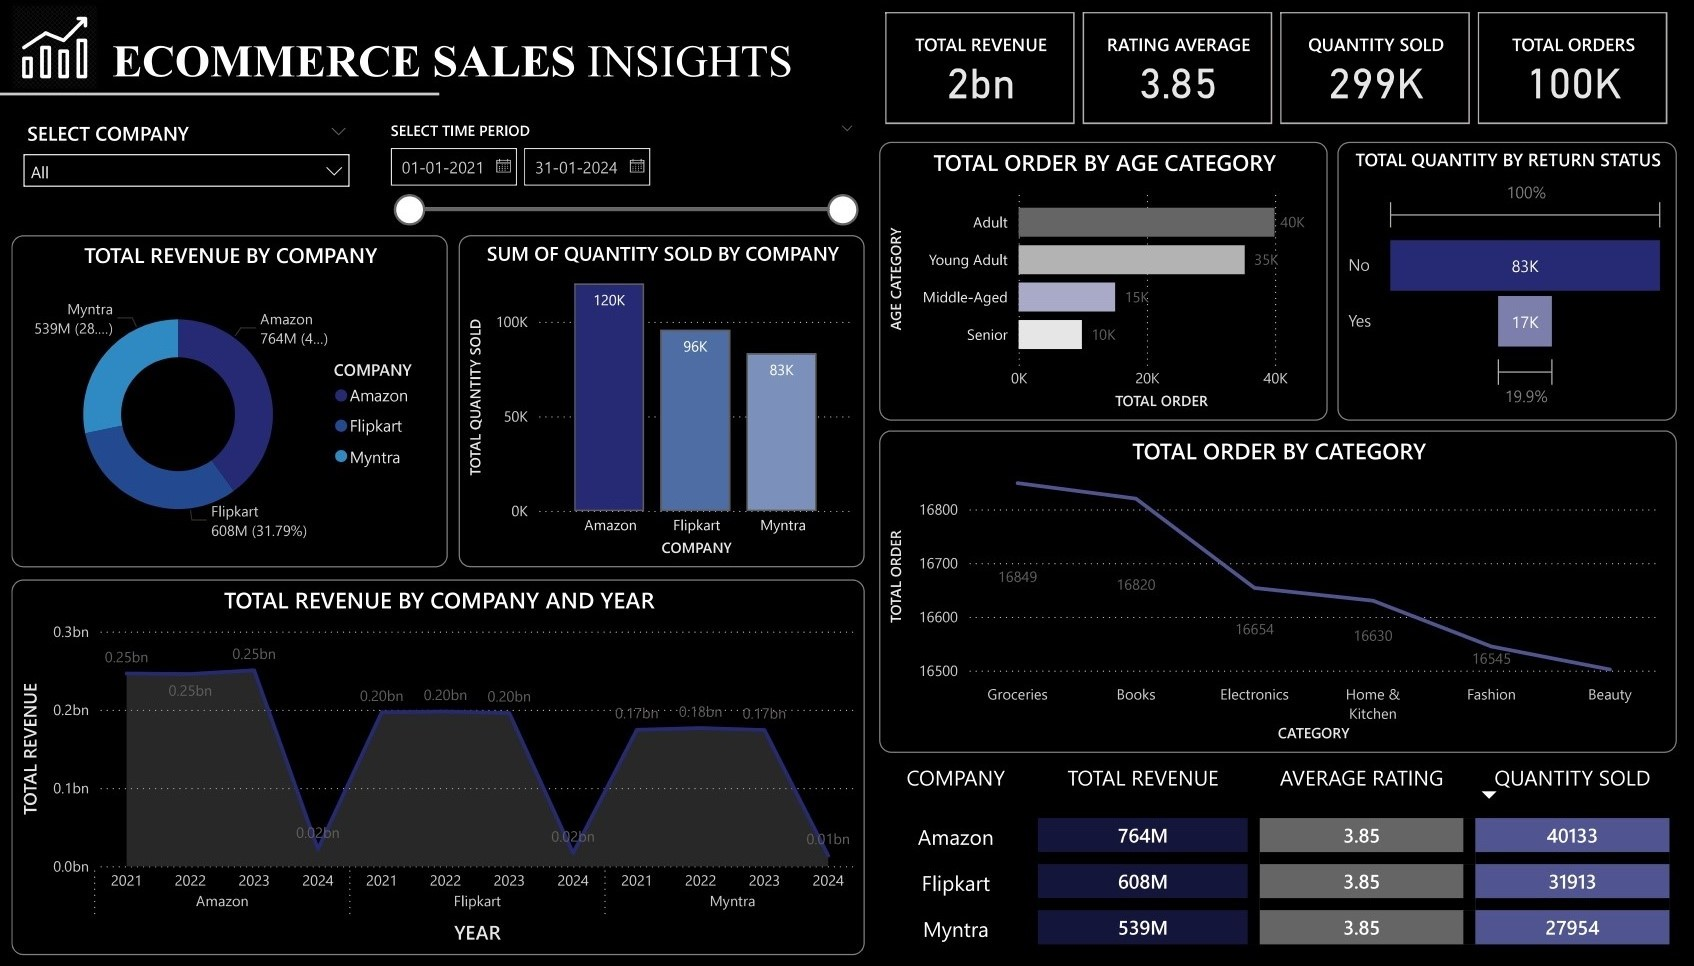

Layout of this report page (visuals, bound fields, positions):
{"tool":"powerbi","page":{"name":"Page 1","canvas":[1400,800],"ordinal":0},"visuals":[{"type":"donutChart","title":"TOTAL REVENUE BY COMPANY","fields":{"Y":["export (2).Total_Revenue1"],"Category":["export (2).Company"]},"box":[11.2,196.2,360,273.8],"z":0},{"type":"pivotTable","fields":{"Values":["export (2).Total_Revenue1","export (2).rating_avg","export (2).quantity_count"],"Rows":["export (2).Company"]},"box":[727.1,622.8,657.6,167.5],"z":1000},{"type":"lineChart","title":"TOTAL REVENUE BY COMPANY AND YEAR","fields":{"Category":["year.Company","year.Year"],"Y":["Sum(year.Total Revenue)"]},"box":[11.2,480,703.8,310],"z":2000},{"type":"clusteredBarChart","title":"TOTAL ORDER BY AGE CATEGORY","fields":{"Y":["export (2).order_c"],"Category":["export (2).Age Category"]},"box":[727.1,119.1,369.7,229.5],"z":3000},{"type":"stackedAreaChart","title":"TOTAL ORDER BY CATEGORY","fields":{"Category":["export (2).Category"],"Y":["export (2).order_c"]},"box":[727.1,357.3,657.6,265.5],"z":4000},{"type":"funnel","title":"TOTAL QUANTITY BY RETURN STATUS","fields":{"Category":["export (2).Return Status"],"Y":["export (2).quantity_count"]},"box":[1105.5,119.1,279.2,229.5],"z":5000},{"type":"cardVisual","fields":{"Data":["export (2).Total_Revenue1","export (2).rating_avg","Sum(export (2).Quantity Sold)","export (2).order_c"]},"box":[727.1,7.4,657.6,103],"z":6000},{"type":"clusteredColumnChart","title":"SUM OF QUANTITY SOLD BY COMPANY","fields":{"Y":["Sum(export (2).Quantity Sold)"],"Category":["export (2).Company"]},"box":[380,196.2,335,273.8],"z":7000},{"type":"slicer","fields":{"Values":["export (2).Company"]},"box":[11.2,96.2,288.8,85],"z":8000},{"type":"slicer","fields":{"Values":["export (2).Date"]},"box":[311.2,96.2,406.2,92.5],"z":9000},{"type":"textbox","box":[87.5,25,612.5,73.8],"z":10000},{"type":"shape","box":[77.5,16.2,603.8,50],"z":11000},{"type":"image","box":[0,0,92.5,81.2],"z":12000},{"type":"shape","box":[0,62.5,363.8,33.8],"z":13000}]}

Visuals, with their boxes in screenshot pixels (x1, y1, x2, y2), scaled from the page's 1400x800 canvas onto the 1694x966 screenshot:
"TOTAL REVENUE BY COMPANY" donutChart: rect(14, 237, 449, 568)
pivotTable - export (2).Total_Revenue1 x export (2).rating_avg: rect(880, 752, 1675, 954)
"TOTAL REVENUE BY COMPANY AND YEAR" lineChart: rect(14, 580, 865, 954)
"TOTAL ORDER BY AGE CATEGORY" clusteredBarChart: rect(880, 144, 1327, 421)
"TOTAL ORDER BY CATEGORY" stackedAreaChart: rect(880, 431, 1675, 752)
"TOTAL QUANTITY BY RETURN STATUS" funnel: rect(1338, 144, 1675, 421)
cardVisual - export (2).Total_Revenue1 x export (2).rating_avg: rect(880, 9, 1675, 133)
"SUM OF QUANTITY SOLD BY COMPANY" clusteredColumnChart: rect(460, 237, 865, 568)
slicer - export (2).Company: rect(14, 116, 363, 219)
slicer - export (2).Date: rect(377, 116, 868, 228)
textbox: rect(106, 30, 847, 119)
shape: rect(94, 20, 824, 80)
image: rect(0, 0, 112, 98)
shape: rect(0, 75, 440, 116)
